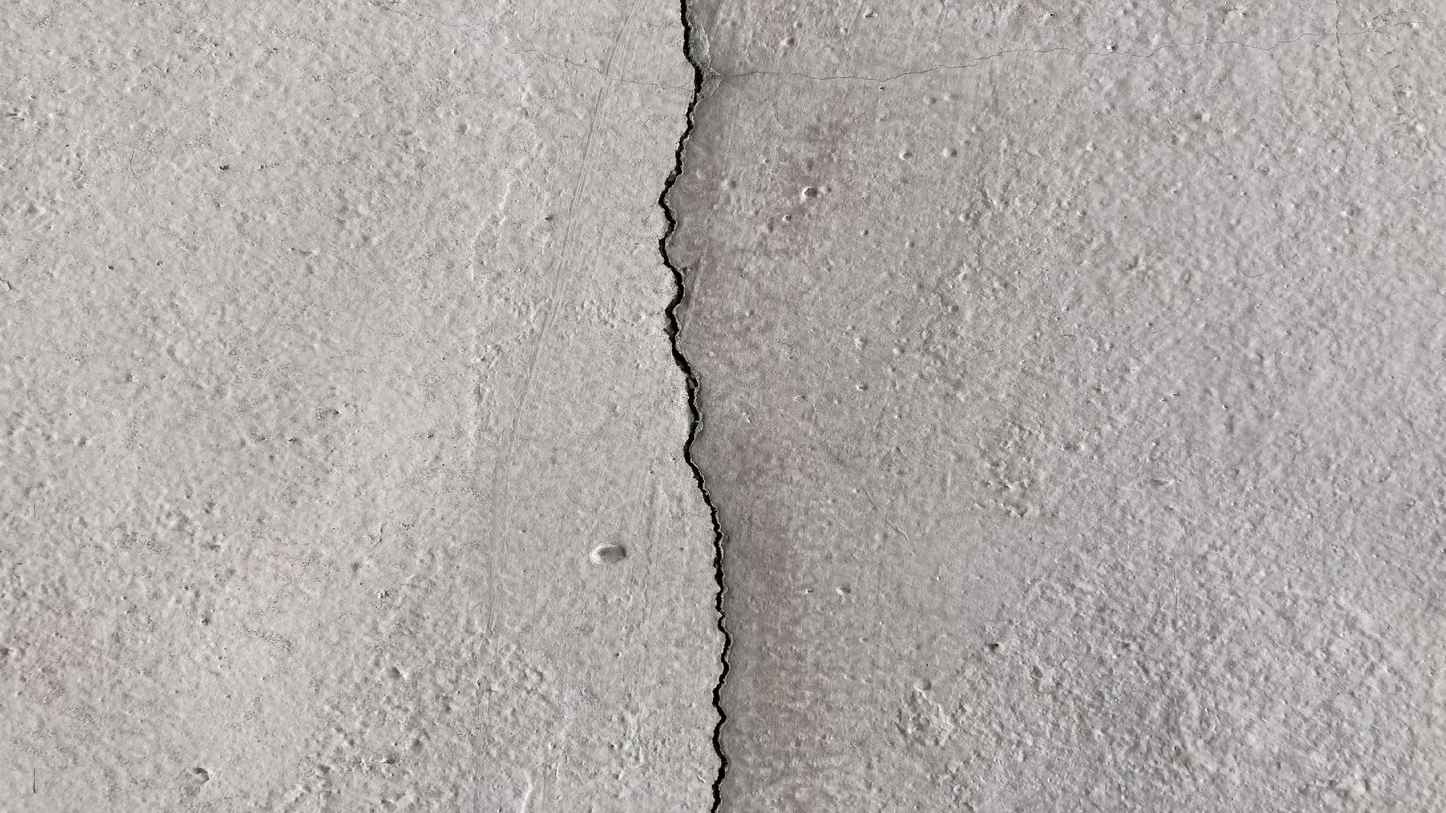crack: (657, 1, 733, 812)
